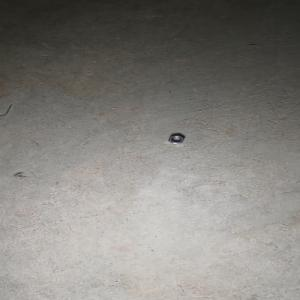Nut: (167, 133, 184, 144)
